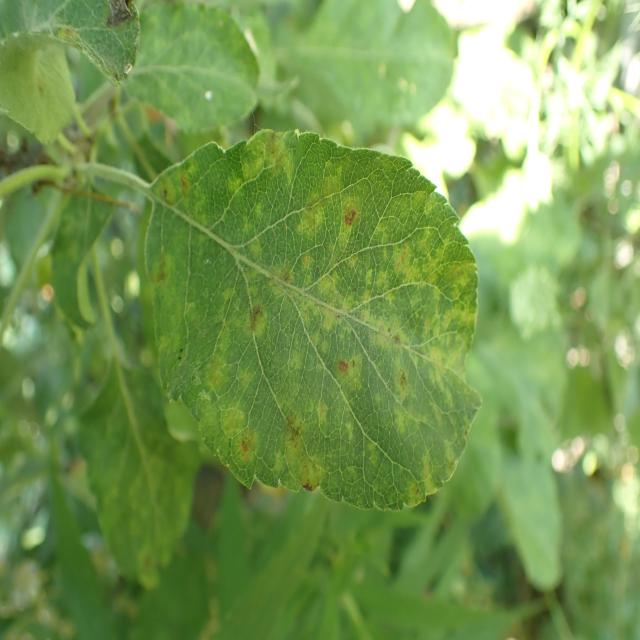scab: (127, 127, 466, 510), (101, 0, 139, 48)
